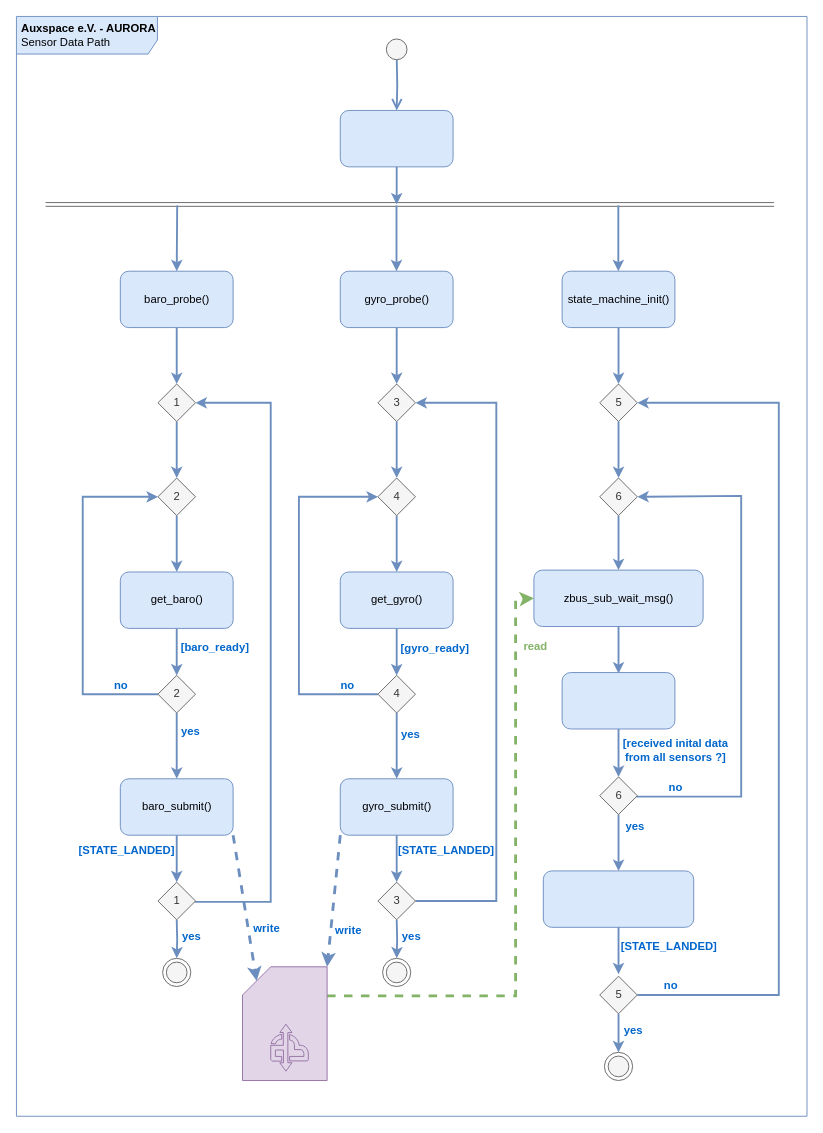
This 823x1133 diagram has some shape labels left out. The shapes that lost their labels are listed below. From the top down, each one's box as (x1, y1, x2, y2) in pixels, then its label:
(339, 110, 453, 167): data_logger_init()
(561, 672, 675, 729): data_logger_log()
(542, 870, 694, 927): state_machine_update()
(242, 966, 327, 1081): ZBus
